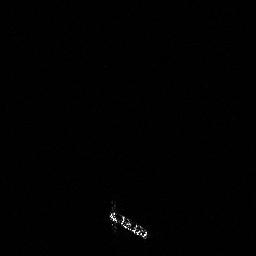ship: (106, 204, 150, 241)
